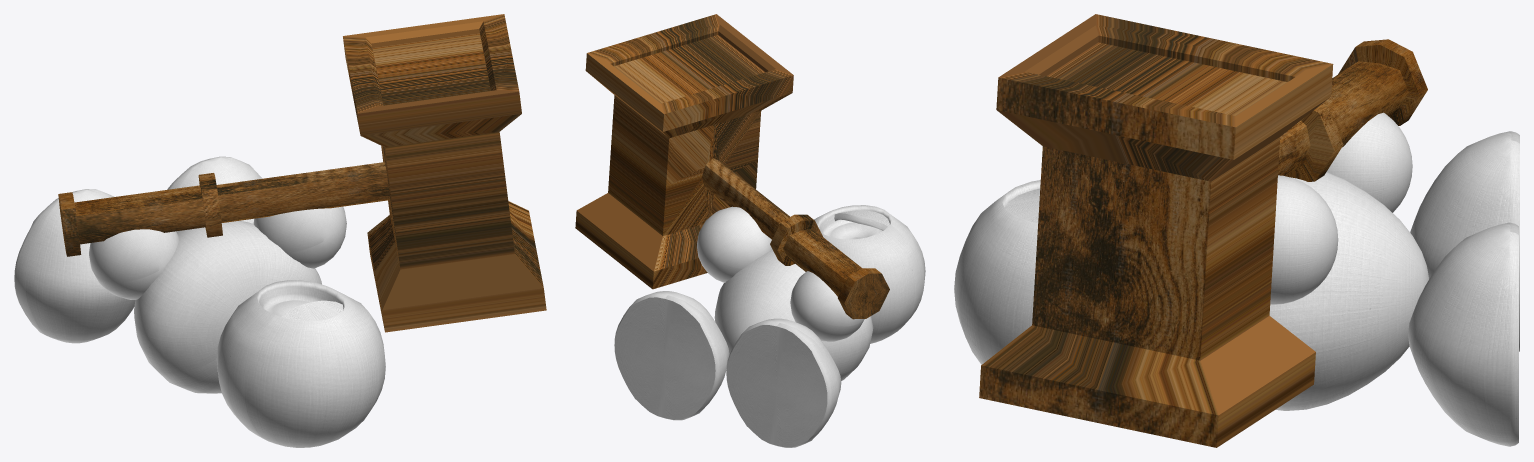
The model's file is char_hammer.fbx.
The picture shows the model from 3 angles, left to right: view 1: azimuth 30°, elevation 25°; view 2: azimuth 150°, elevation 25°; view 3: azimuth 270°, elevation 25°; orthographic projection. The views are drawn at different scales.
Visible parts, largest first — view 1: Hammer:pCube1, Head, pSphere1, R_foot1, L_hand, R_hand, R_foot; view 2: Hammer:pCube1, R_foot1, R_foot, Head, pSphere1, R_hand, L_hand; view 3: Hammer:pCube1, pSphere1, R_foot, Head, R_foot1, R_hand, L_hand.
Boxes of the visible parts, box(x1,y1,x2,y2) form: Hammer:pCube1: box(58, 14, 546, 332); Head: box(216, 280, 385, 447); pSphere1: box(134, 220, 321, 393); R_foot1: box(14, 189, 135, 343); L_hand: box(89, 229, 178, 299); R_hand: box(253, 206, 346, 268); R_foot: box(167, 156, 261, 231); Hammer:pCube1: box(575, 14, 889, 319); R_foot1: box(726, 318, 841, 447); R_foot: box(614, 291, 729, 420); Head: box(814, 205, 925, 343); pSphere1: box(714, 250, 873, 380); R_hand: box(697, 206, 772, 282); L_hand: box(790, 271, 864, 341); Hammer:pCube1: box(979, 14, 1427, 447); pSphere1: box(1269, 172, 1428, 410); R_foot: box(1408, 222, 1518, 446); Head: box(954, 180, 1040, 364); R_foot1: box(1410, 131, 1519, 351); R_hand: box(1270, 175, 1338, 304); L_hand: box(1326, 112, 1412, 212).
Bounding box in the file's own units: 23.08 × 19.19 × 16.98.
Materials: 2 (2 with a texture image).
